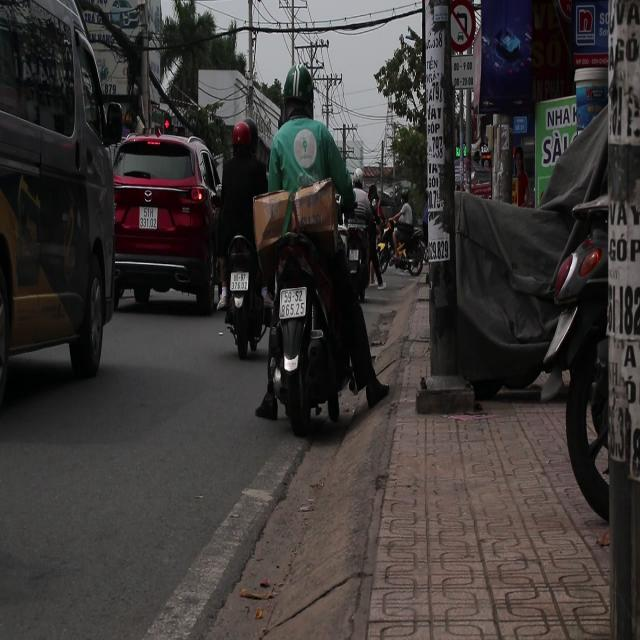car: (0, 0, 121, 416), (111, 134, 221, 315)
motorbike: (255, 174, 388, 428), (219, 233, 268, 360), (336, 228, 378, 316), (381, 212, 425, 282)
